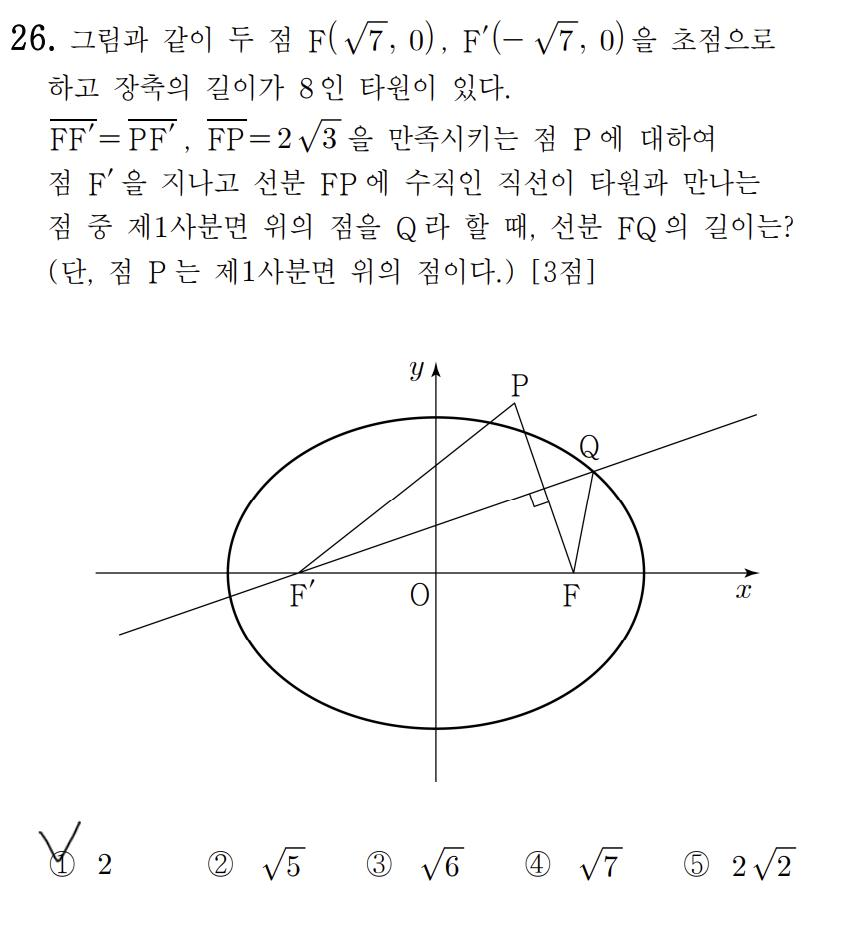1: (39, 819, 83, 882)
paper: (43, 846, 76, 880), (206, 849, 239, 883), (361, 848, 394, 882), (521, 849, 554, 883), (679, 848, 712, 882)
